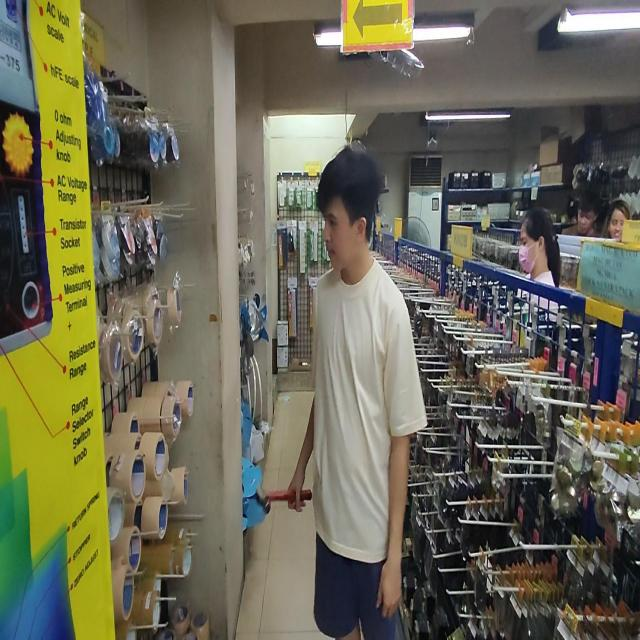hammer: (255, 484, 313, 514)
